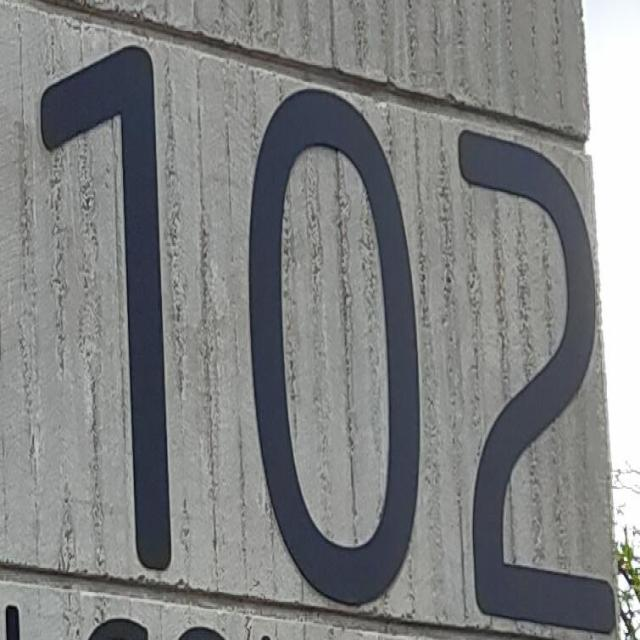character: (242, 74, 426, 615), (455, 121, 619, 640), (39, 39, 179, 579)
